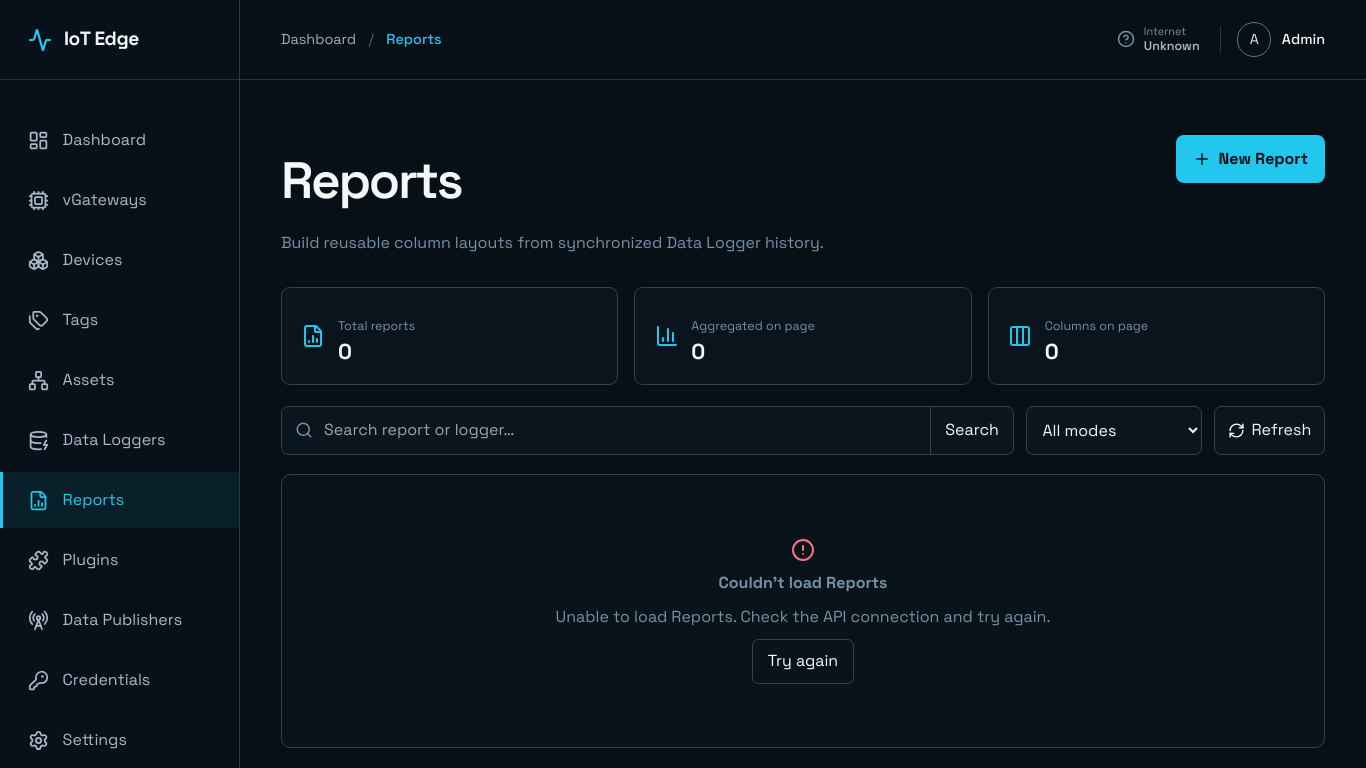
Test case: ReportListPage › shows API error and retries
The image size is (1366, 768).
Expected: the message that starts with "Couldn’t load Reports" shows "Unable to load Reports", [556,606,1050,627]
Click the button "Try again" at (803, 661), box [752,639,854,684]
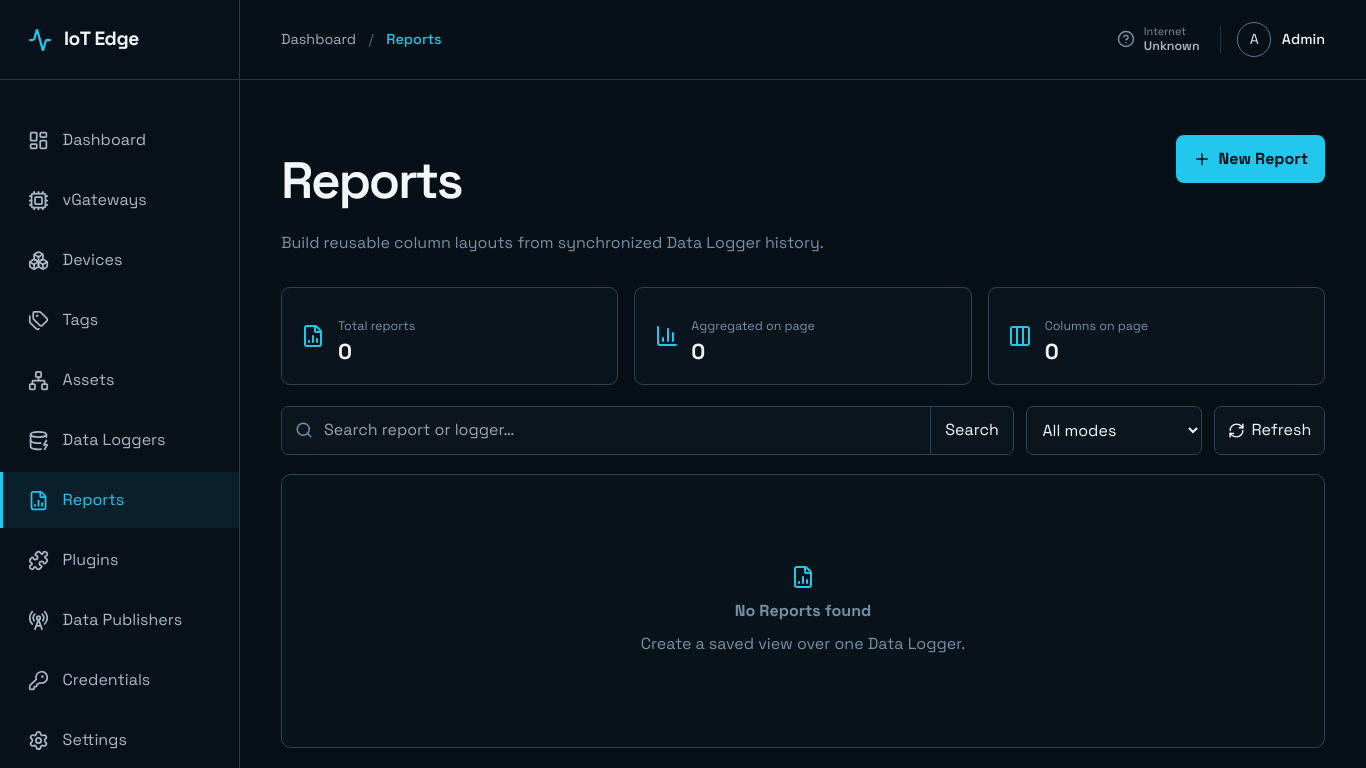
Now the text "No Reports found" is shown, box [735,599,871,623]
